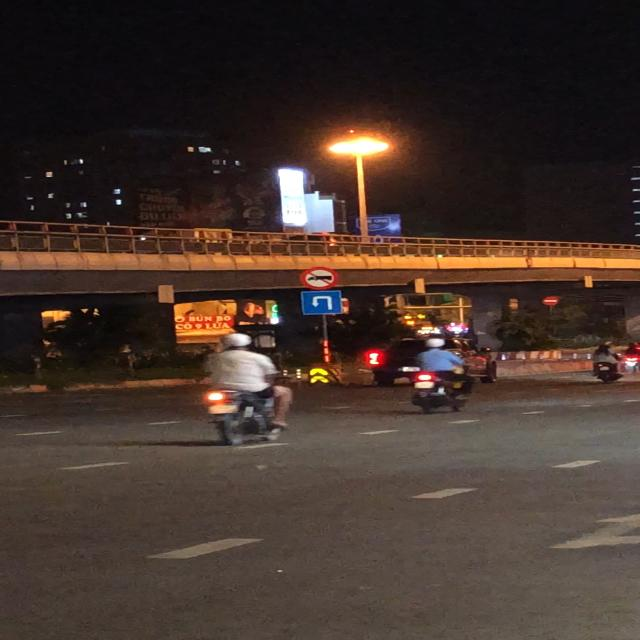Bien bao cam xe so-mi ro-mooc: (299, 266, 341, 290)
